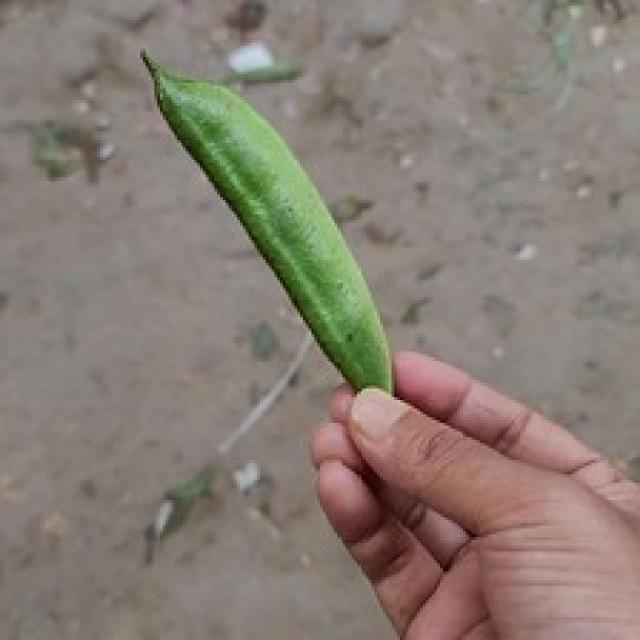Bean: (137, 46, 394, 397)
